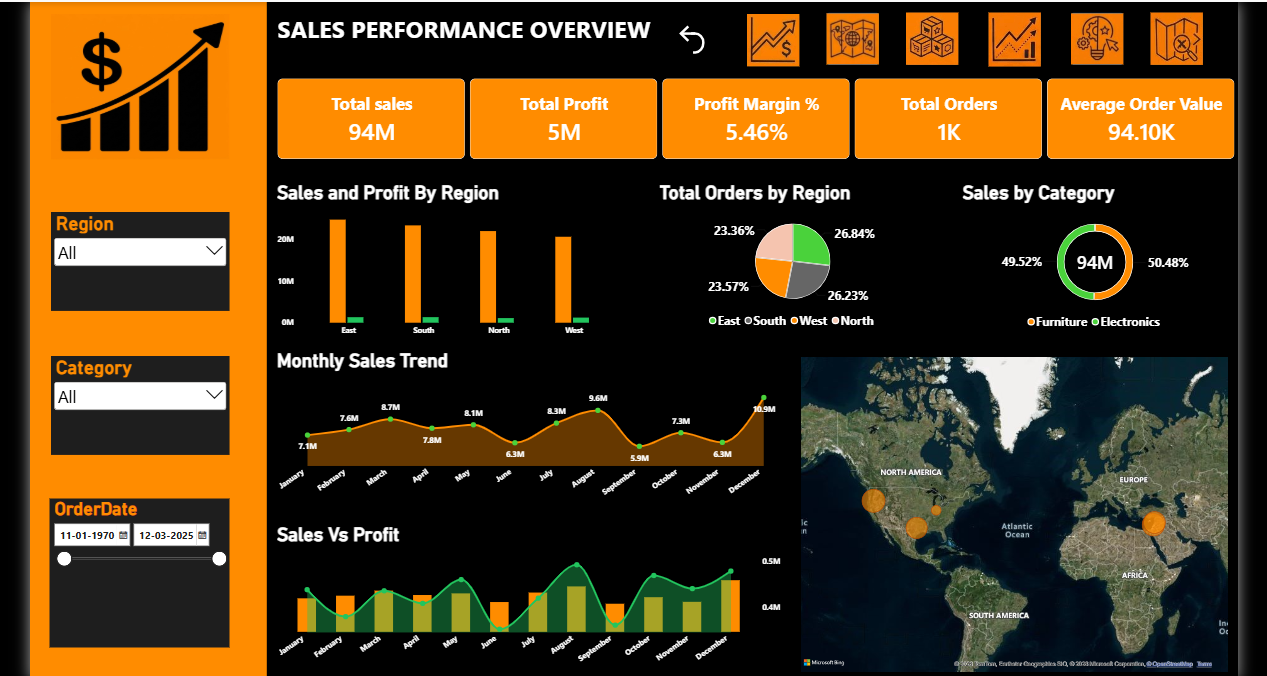

Layout of this report page (visuals, bound fields, positions):
{"tool":"powerbi","page":{"name":"Sales Performance Overview","canvas":[1920,1080],"ordinal":1},"visuals":[{"type":"shape","box":[0,0,377,1080.8],"z":0},{"type":"textbox","box":[393.7,16.7,620.3,107.4],"z":1000},{"type":"clusteredColumnChart","title":"Sales and Profit By Region","fields":{"Category":["SalesData_1000Rows_WithIssues_copy.Region"],"Y":["Measure  Table.Total sales","Measure  Table.Total Profit"]},"box":[377,272,582.2,279.2],"z":2000},{"type":"pieChart","fields":{"Category":["SalesData_1000Rows_WithIssues_copy.Region"],"Y":["Measure  Table.Total Orders"]},"box":[985.4,272,455.7,267.2],"z":3000},{"type":"lineChart","title":"Monthly Sales Trend","fields":{"Category":["SalesData_1000Rows_WithIssues_copy.OrderDate.Variation.Date Hierarchy.Month"],"Y":["Measure  Table.Total sales"]},"box":[377,539.2,832.7,276.8],"z":4000},{"type":"lineClusteredColumnComboChart","title":"Sales Vs Profit ","fields":{"Category":["SalesData_1000Rows_WithIssues_copy.OrderDate.Variation.Date Hierarchy.Month"],"Y":["Measure  Table.Total sales"],"Y2":["Measure  Table.Total Profit"]},"box":[377,816,832.7,264.8],"z":5000},{"type":"donutChart","title":"Sales by Category","fields":{"Category":["SalesData_1000Rows_WithIssues_copy.Category"],"Y":["Measure  Table.Total sales"]},"box":[1467.3,272,453.3,269.6],"z":6000},{"type":"map","title":"Sales By Region","fields":{"Category":["SalesData_1000Rows_WithIssues_copy.Region"],"Size":["Measure  Table.Total sales"]},"box":[1209.7,551.1,711,529.7],"z":7000},{"type":"cardVisual","fields":{"Data":["Measure  Table.Total sales","Measure  Table.Total Profit","Measure  Table.Profit Margin %","Measure  Table.Total Orders","Measure  Table.Average Order Value"]},"box":[393.7,121.7,1527,128.8],"z":8000},{"type":"slicer","fields":{"Values":["SalesData_1000Rows_WithIssues_copy.Region"]},"box":[33.4,334,283.9,157.5],"z":9000},{"type":"slicer","fields":{"Values":["SalesData_1000Rows_WithIssues_copy.OrderDate"]},"box":[31,789.7,286.3,236.2],"z":10000},{"type":"slicer","fields":{"Values":["SalesData_1000Rows_WithIssues_copy.Category"]},"box":[33.4,563.1,283.9,157.5],"z":11000},{"type":"actionButton","box":[1140.5,19.1,83.5,83.5],"z":12000},{"type":"actionButton","box":[1266.9,16.7,83.5,83.5],"z":13000},{"type":"actionButton","box":[1393.4,16.7,83.5,83.5],"z":14000},{"type":"actionButton","box":[1524.6,16.7,83.5,85.9],"z":15000},{"type":"actionButton","box":[1655.8,16.7,83.5,83.5],"z":16000},{"type":"actionButton","box":[1782.3,16.7,83.5,83.5],"z":17000},{"type":"image","box":[33.4,19.1,283.9,231.4],"z":18000},{"type":"actionButton","box":[1014,19.1,78.7,81.1],"z":19000}]}

Visuals, with their boxes on the page's 1920x1080 design canvas (x1, y1, x2, y2). These are canvas units, not pixel positions in the 1267x676 screenshot, which may show the page scaled, cropped or inside an application window:
shape: [left=0, top=0, right=377, bottom=1081]
textbox: [left=394, top=17, right=1014, bottom=124]
"Sales and Profit By Region" clusteredColumnChart: [left=377, top=272, right=959, bottom=551]
pieChart - SalesData_1000Rows_WithIssues_copy.Region x Measure  Table.Total Orders: [left=985, top=272, right=1441, bottom=539]
"Monthly Sales Trend" lineChart: [left=377, top=539, right=1210, bottom=816]
"Sales Vs Profit " lineClusteredColumnComboChart: [left=377, top=816, right=1210, bottom=1081]
"Sales by Category" donutChart: [left=1467, top=272, right=1921, bottom=542]
"Sales By Region" map: [left=1210, top=551, right=1921, bottom=1081]
cardVisual - Measure  Table.Total sales x Measure  Table.Total Profit: [left=394, top=122, right=1921, bottom=250]
slicer - SalesData_1000Rows_WithIssues_copy.Region: [left=33, top=334, right=317, bottom=492]
slicer - SalesData_1000Rows_WithIssues_copy.OrderDate: [left=31, top=790, right=317, bottom=1026]
slicer - SalesData_1000Rows_WithIssues_copy.Category: [left=33, top=563, right=317, bottom=721]
actionButton: [left=1140, top=19, right=1224, bottom=103]
actionButton: [left=1267, top=17, right=1350, bottom=100]
actionButton: [left=1393, top=17, right=1477, bottom=100]
actionButton: [left=1525, top=17, right=1608, bottom=103]
actionButton: [left=1656, top=17, right=1739, bottom=100]
actionButton: [left=1782, top=17, right=1866, bottom=100]
image: [left=33, top=19, right=317, bottom=250]
actionButton: [left=1014, top=19, right=1093, bottom=100]
